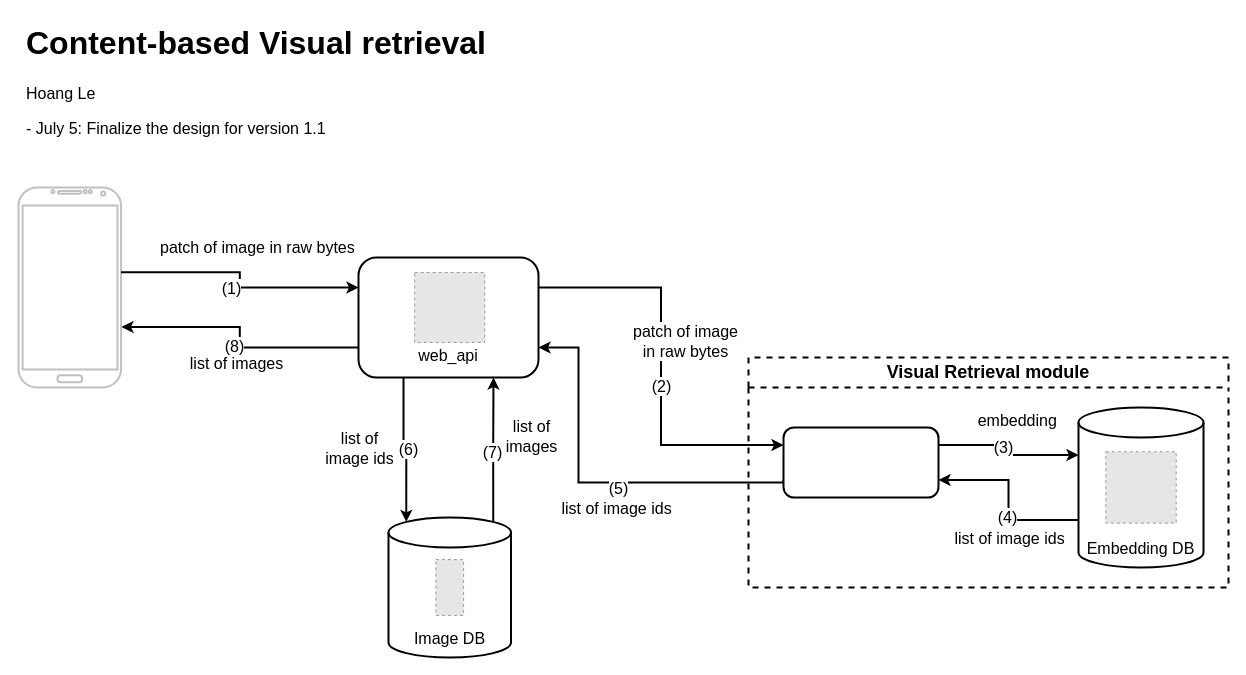
The diagram is 1246 pixels wide and 675 high, and some of its shapes have lost their labels. Grey dashed boxes stand in for pictures. The shapes that lost their labels are listed below. From the top down, each one's centre as x and y in pixels, then its label:
At [69,287]: "front-end".
At [860,462]: "embedding_extractor".
